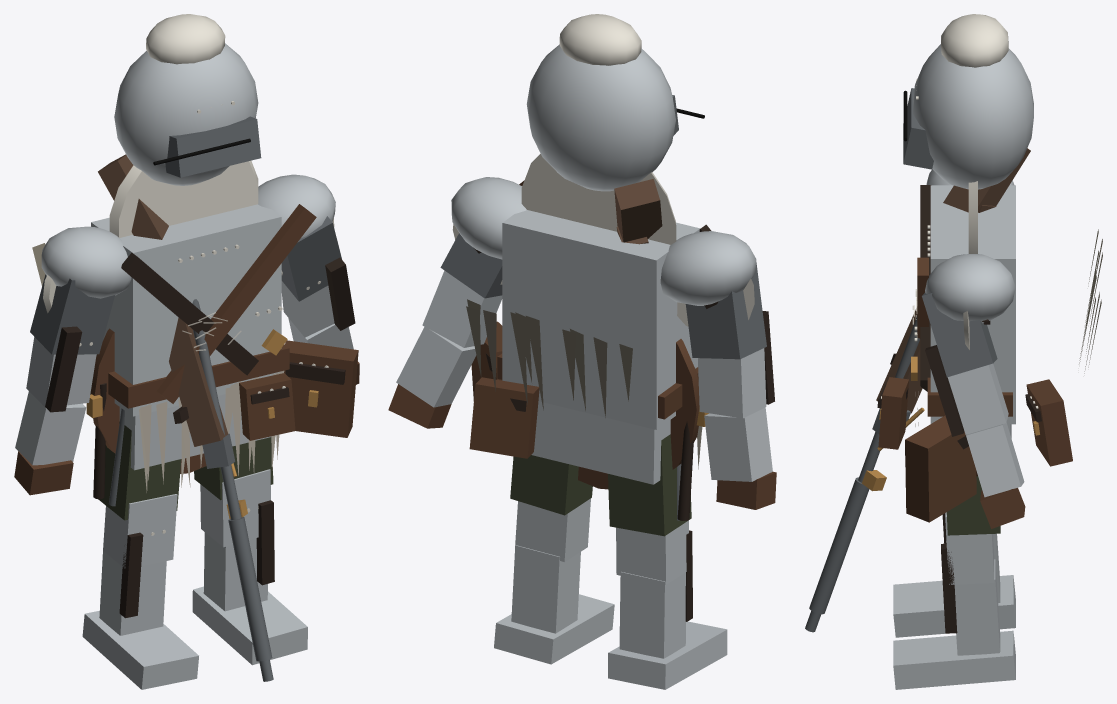
File: roblox_r15_ragged_knight.glb
3 renders of one model, left to right at view 1: azimuth 30°, elevation 25°; view 2: azimuth 150°, elevation 25°; view 3: azimuth 270°, elevation 25°, orthographic. The views are drawn at different scales.
Parts seen in each view (by area): view 1: r15 upper torso plate, helmet bowl, main plate (×2), gorget rim, left plated leg sabaton, large right satchel body, front diagonal strap, right plated leg sabaton, left armored arm upper arm, left plated leg knee plate, visor, left armored arm forearm (+28 smaller); view 2: r15 upper torso plate, helmet bowl, main plate (×2), r15 lower torso plate, left plated leg shin armor, right plated leg shin armor, gorget rim, back utility bag body, left armored arm upper arm, left plated leg sabaton, left plated leg thigh cloth, left armored arm forearm (+19 smaller); view 3: helmet bowl, r15 upper torso plate, large right satchel body, right plated leg sabaton, main plate, left plated leg sabaton, right plated leg shin armor, right armored arm upper arm, helmet crest, right armored arm elbow plate, right armored arm forearm, back utility bag body (+15 smaller).
Boxes of the visible parts, x1=… form: r15 upper torso plate: x1=91, y1=204, x2=281, y2=416; helmet bowl: x1=114, y1=43, x2=258, y2=185; main plate (×2): x1=41, y1=174, x2=335, y2=298; gorget rim: x1=109, y1=160, x2=258, y2=237; left plated leg sabaton: x1=82, y1=610, x2=198, y2=689; large right satchel body: x1=284, y1=340, x2=358, y2=437; front diagonal strap: x1=156, y1=204, x2=316, y2=403; right plated leg sabaton: x1=192, y1=586, x2=307, y2=665; left armored arm upper arm: x1=30, y1=274, x2=114, y2=354; left plated leg knee plate: x1=103, y1=494, x2=177, y2=568; visor: x1=165, y1=116, x2=261, y2=177; left armored arm forearm: x1=15, y1=391, x2=86, y2=465; r15 upper torso plate: x1=502, y1=210, x2=700, y2=429; helmet bowl: x1=526, y1=44, x2=675, y2=191; main plate (×2): x1=451, y1=177, x2=756, y2=305; r15 lower torso plate: x1=531, y1=401, x2=670, y2=484; left plated leg shin armor: x1=619, y1=571, x2=685, y2=658; right plated leg shin armor: x1=511, y1=545, x2=580, y2=633; gorget rim: x1=521, y1=154, x2=676, y2=244; back utility bag body: x1=469, y1=377, x2=539, y2=458; left armored arm upper arm: x1=685, y1=262, x2=766, y2=359; left plated leg sabaton: x1=608, y1=621, x2=727, y2=689; left plated leg thigh cloth: x1=608, y1=434, x2=691, y2=536; left armored arm forearm: x1=704, y1=407, x2=772, y2=481; helmet bowl: x1=913, y1=44, x2=1033, y2=189; r15 upper torso plate: x1=930, y1=185, x2=1015, y2=424; large right satchel body: x1=905, y1=415, x2=976, y2=522; right plated leg sabaton: x1=893, y1=630, x2=1015, y2=689; main plate: x1=925, y1=254, x2=1015, y2=323; left plated leg sabaton: x1=893, y1=575, x2=1015, y2=637; right plated leg shin armor: x1=954, y1=559, x2=1000, y2=655; right armored arm upper arm: x1=922, y1=292, x2=997, y2=377; helmet crest: x1=941, y1=14, x2=1008, y2=67; right armored arm elbow plate: x1=948, y1=363, x2=1008, y2=434; right armored arm forearm: x1=966, y1=423, x2=1024, y2=497; back utility bag body: x1=1026, y1=379, x2=1072, y2=466.
Size of the model in its own units: 2.73 by 4.74 by 2.02.
